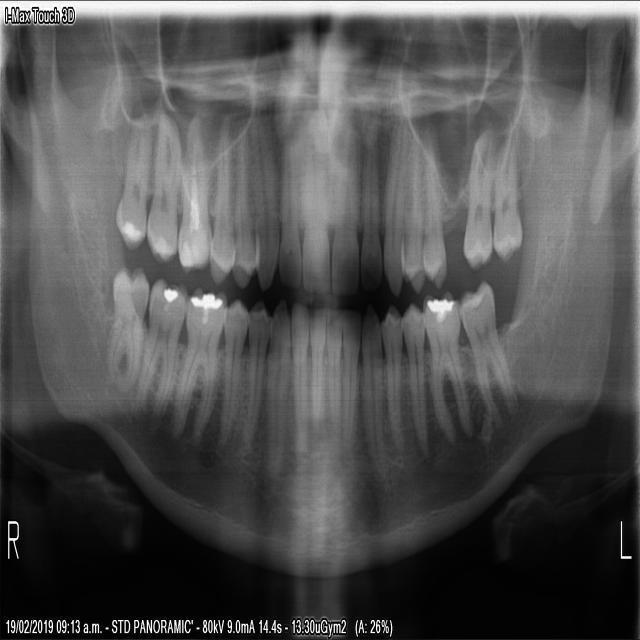LCD: (359, 297, 391, 483)
LCU: (379, 105, 409, 301)
LID: (339, 301, 363, 450), (324, 296, 342, 447)
LIU: (328, 119, 360, 302), (358, 120, 382, 293)
LMD: (455, 271, 519, 430), (418, 286, 470, 450)
LMU: (458, 127, 498, 275), (489, 130, 523, 267)
LPMD: (398, 293, 430, 462), (378, 296, 405, 456)
LPMU: (397, 124, 425, 293), (420, 121, 447, 289)
RCD: (261, 290, 292, 489)
RCU: (247, 101, 280, 294)
RID: (287, 292, 309, 466), (306, 301, 330, 440)
RIU: (298, 129, 331, 299), (276, 126, 300, 298)
RMD: (167, 280, 229, 446), (131, 268, 190, 430), (101, 259, 151, 399)
RMU: (110, 108, 154, 257), (174, 107, 211, 276), (143, 99, 180, 266)
RPMD: (213, 290, 251, 460), (236, 295, 272, 456)
RPMU: (206, 101, 237, 287), (229, 112, 258, 292)
